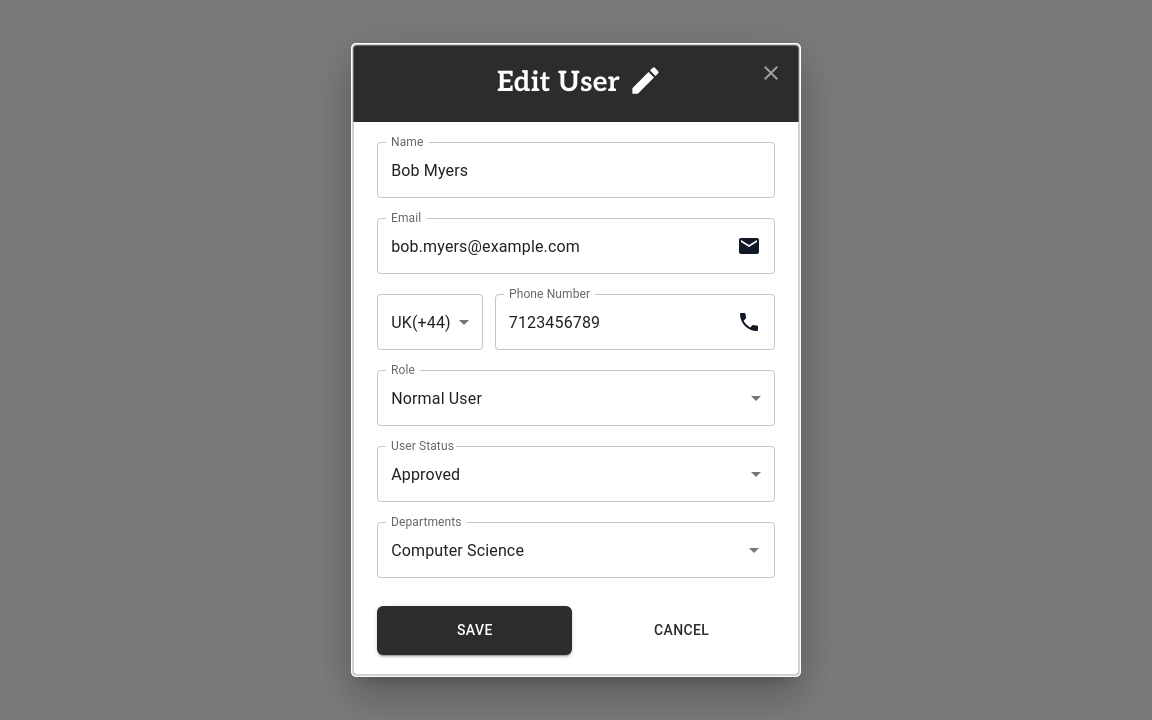
Test: Super-admin EditDialog (user edit) › shows empty-email helper when email is cleared
Clear the field labelled "Email" at (553, 246), box [377,218,729,274]
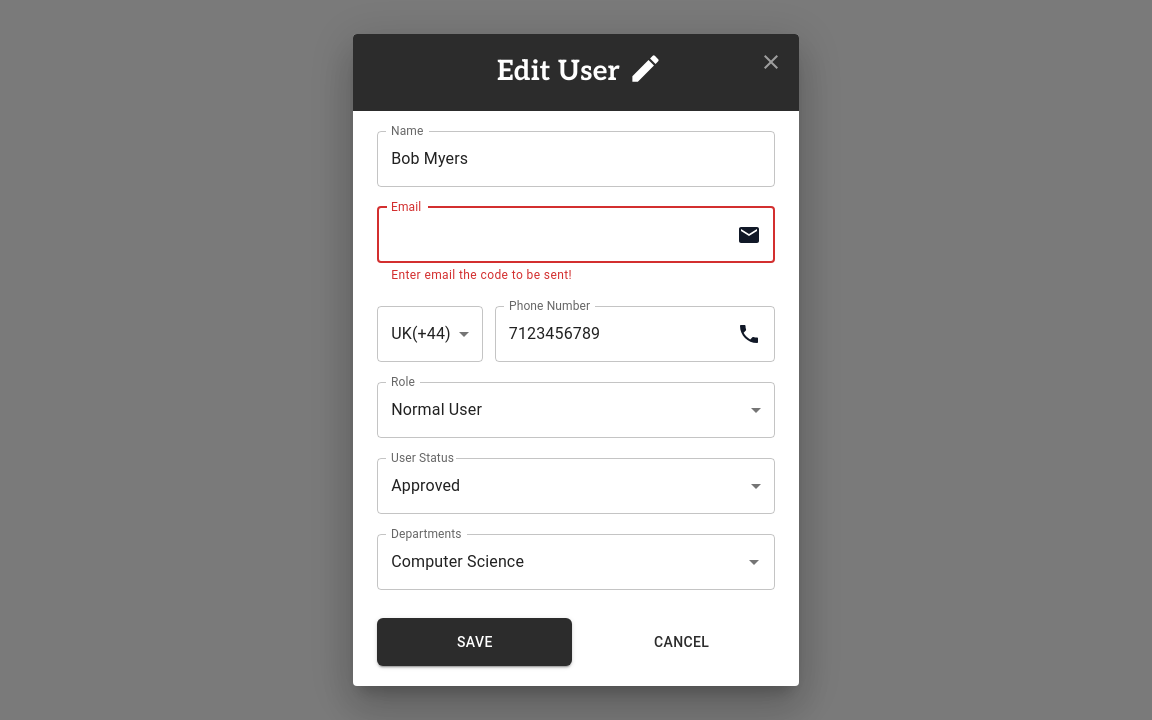
Expected: the text "Enter email the code to be sent!" is shown, [391,268,572,282]
